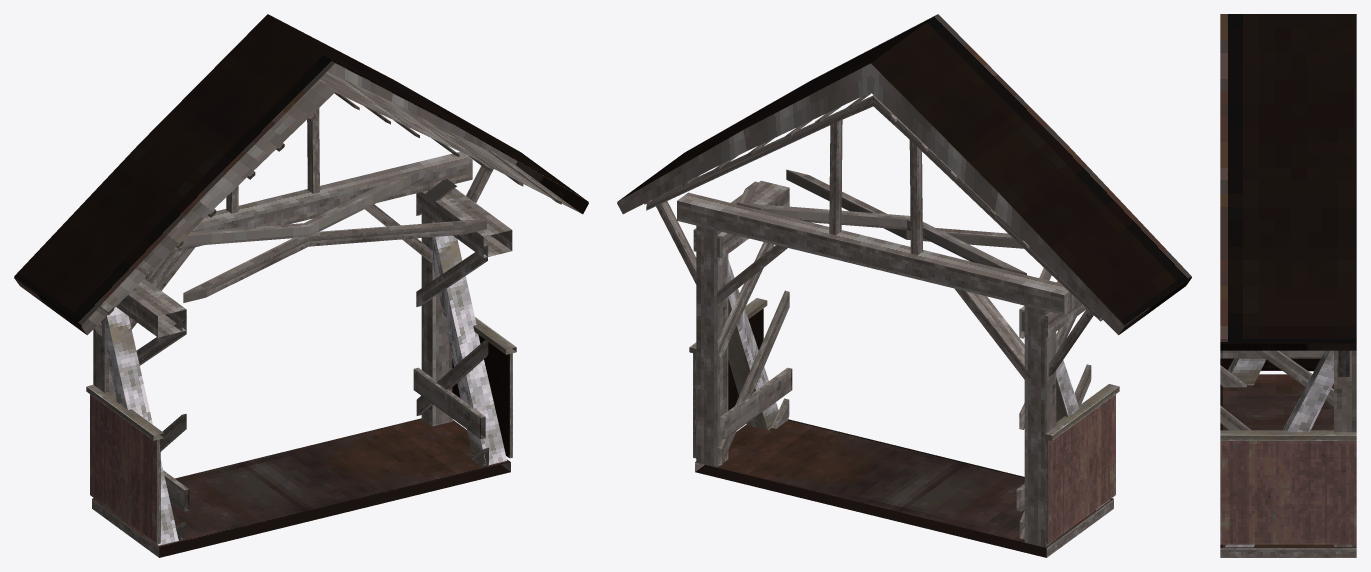
The model's file is 4_b4_right_seamless.glb.
The picture shows the model from 3 angles, left to right: view 1: azimuth 30°, elevation 25°; view 2: azimuth 150°, elevation 25°; view 3: azimuth 270°, elevation 25°; orthographic projection.
Parts seen in each view (by area): view 1: 4_b4_right_seamless; view 2: 4_b4_right_seamless; view 3: 4_b4_right_seamless.
Boxes of the visible parts, box(x1,y1,x2,y2) form: 4_b4_right_seamless: box(14, 14, 588, 557); 4_b4_right_seamless: box(617, 14, 1191, 557); 4_b4_right_seamless: box(1220, 14, 1356, 557).
Bounding box in the file's own units: 8.69 × 7.39 × 2.
Materials: 1 (1 with a texture image).
